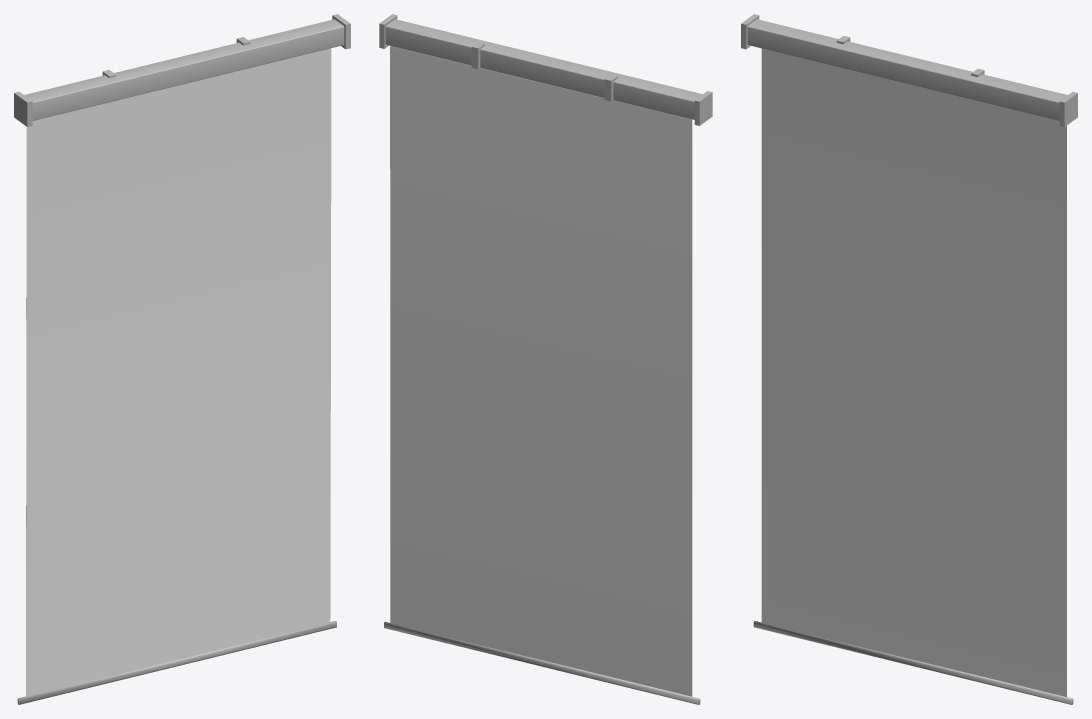
The picture shows the model from 3 angles, left to right: view 1: azimuth 30°, elevation 25°; view 2: azimuth 150°, elevation 25°; view 3: azimuth 330°, elevation 25°; orthographic projection.
Parts seen in each view (by area): view 1: BLIND_2, Box001_3; view 2: BLIND_2, Box001_3; view 3: BLIND_2, Box001_3.
Part boxes in pixels (x1,y1,x2,y2): BLIND_2: (26,48,331,696); Box001_3: (14,14,350,704); BLIND_2: (389,46,692,696); Box001_3: (379,14,712,704); BLIND_2: (761,48,1066,696); Box001_3: (741,14,1077,704).
Size of the model in its own units: 1.12 by 2.02 by 0.0813.
2 materials, 2 textured.
